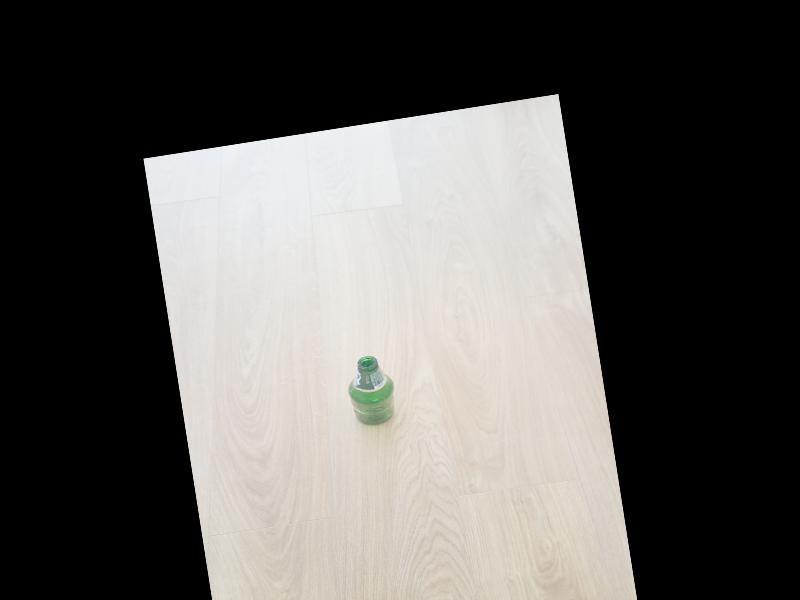Beer: (344, 352, 402, 429)
